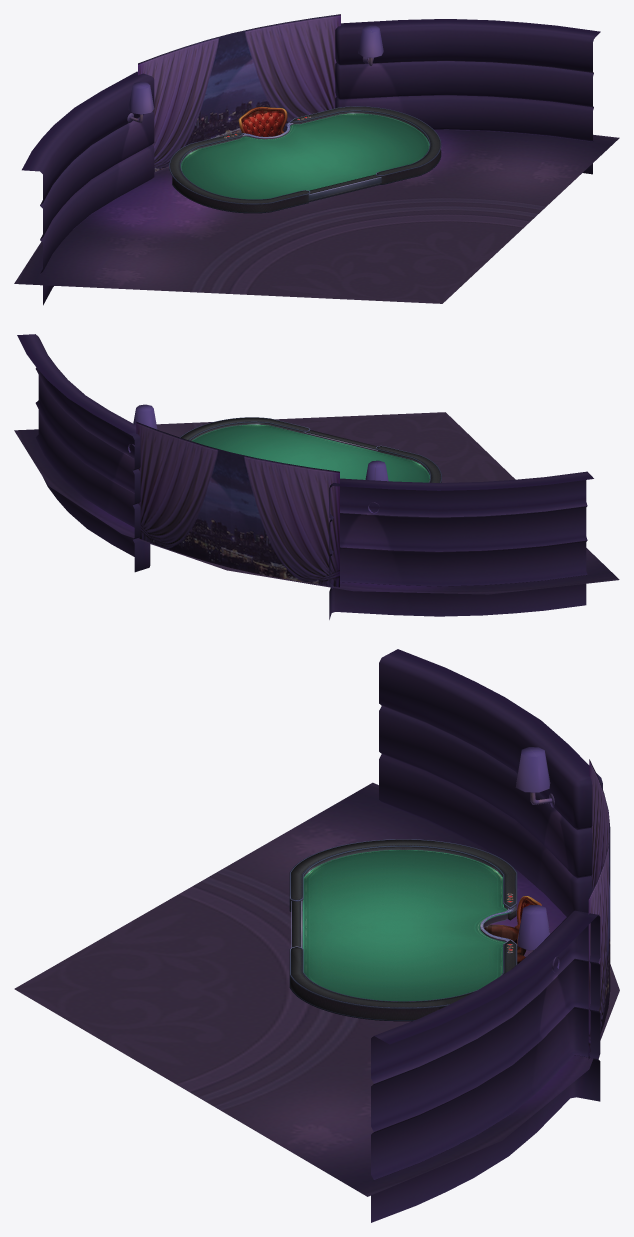
The model's file is poker_table.FBX.
3 renders of one model, top to bottom at view 1: azimuth 30°, elevation 25°; view 2: azimuth 150°, elevation 25°; view 3: azimuth 270°, elevation 25°, orthographic. The views are drawn at different scales.
Visible parts, largest first — view 1: poker_table02, poker_table01; view 2: poker_table02, poker_table01; view 3: poker_table02, poker_table01.
Boxes of the visible parts, x1,y1,x2,y2 form: poker_table02: (14,14,619,305); poker_table01: (181,113,429,199); poker_table02: (14,334,619,619); poker_table01: (192,424,429,482); poker_table02: (14,649,619,1222); poker_table01: (302,850,510,1001).
Bounding box in the file's own units: 1123 × 260 × 694.
